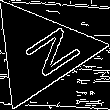N_SW: (6, 21, 76, 83)
